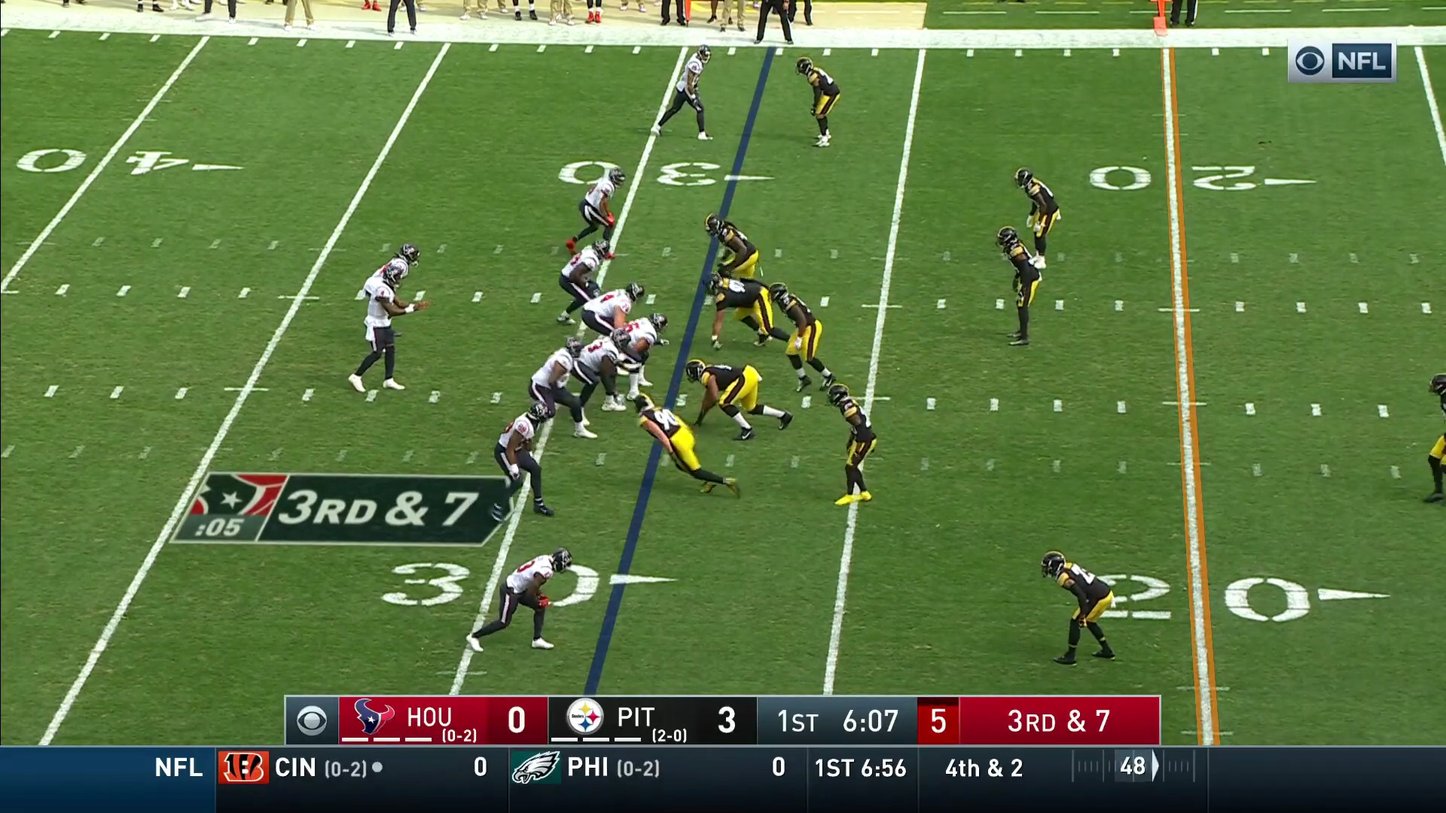Player: (349, 245, 419, 392), (710, 272, 773, 344), (614, 315, 664, 399), (573, 334, 623, 415), (560, 240, 609, 309), (583, 286, 640, 336), (1429, 375, 1446, 490)
